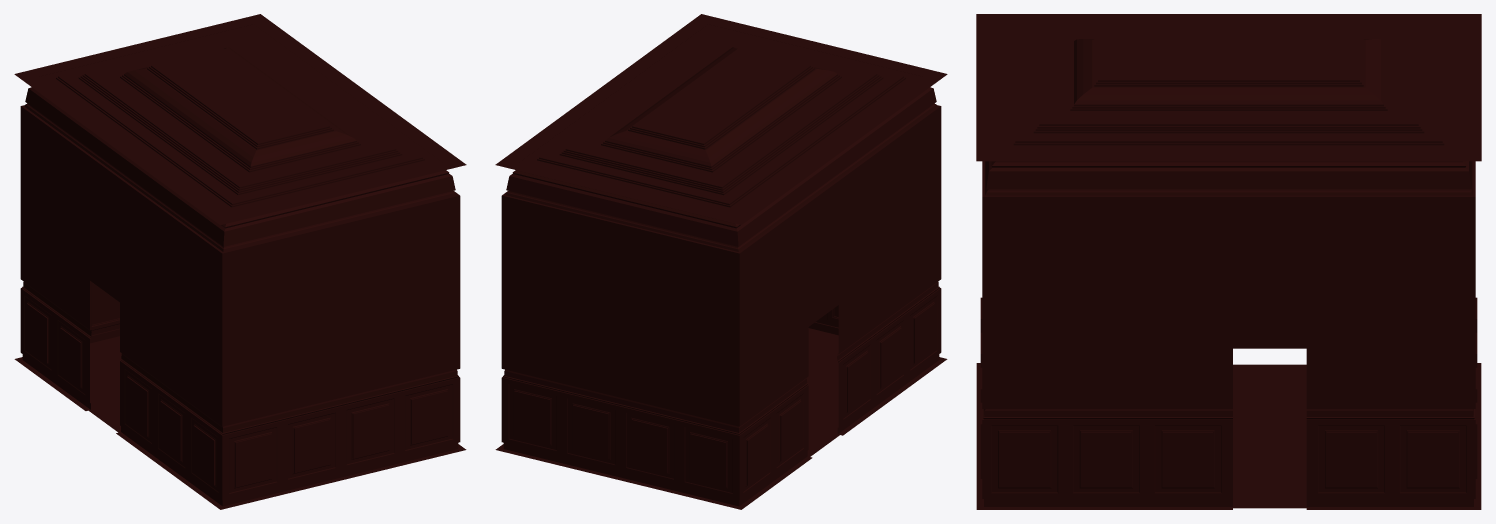
The model's file is 2door_7.FBX.
The picture shows the model from 3 angles, left to right: view 1: azimuth 30°, elevation 25°; view 2: azimuth 150°, elevation 25°; view 3: azimuth 270°, elevation 25°; orthographic projection. The views are drawn at different scales.
Parts seen in each view (by area): view 1: wall, ceiling, floor; view 2: wall, ceiling, floor; view 3: wall, ceiling, floor.
Part boxes in pixels (box(x1,y1,x2,y2)): wall: box(14, 14, 466, 509); ceiling: box(16, 24, 464, 224); floor: box(19, 336, 461, 508); wall: box(495, 14, 947, 509); ceiling: box(497, 24, 945, 224); floor: box(500, 328, 942, 508); wall: box(976, 14, 1481, 509); ceiling: box(976, 14, 1481, 161); floor: box(979, 364, 1478, 508).
Bounding box in the file's own units: 160 × 232 × 192.
